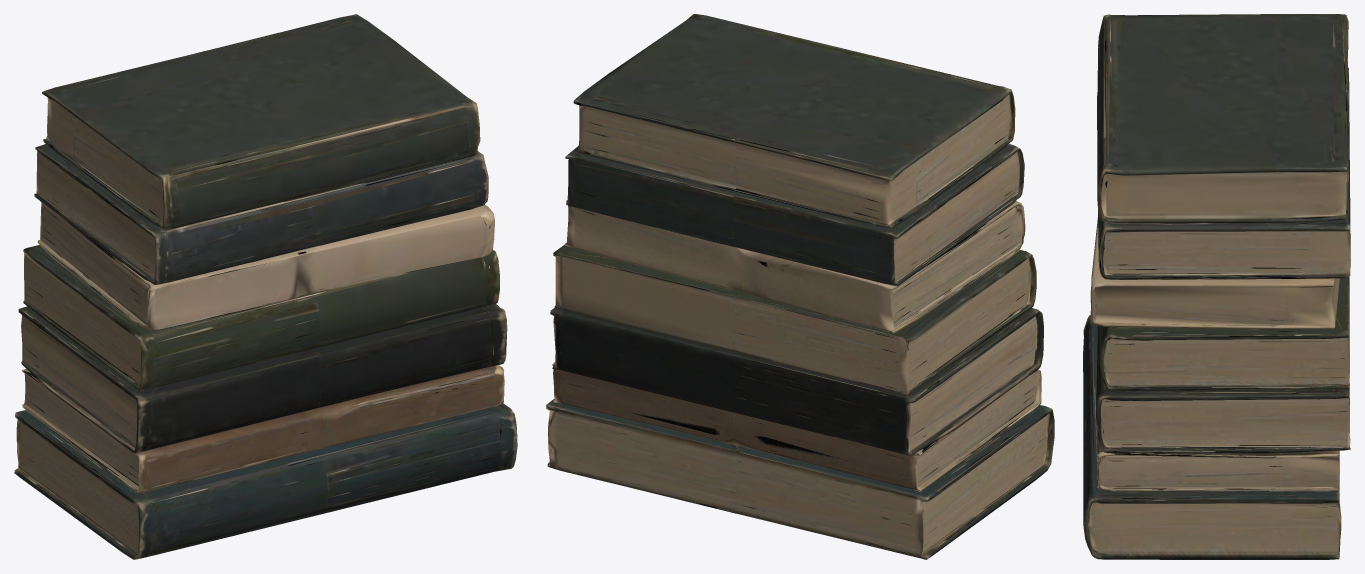
File: mobile.glb
3 views of the same model, side by side, from view 1: azimuth 30°, elevation 25°; view 2: azimuth 150°, elevation 25°; view 3: azimuth 270°, elevation 25° (orthographic).
Parts seen in each view (by area): view 1: bookstack; view 2: bookstack; view 3: bookstack.
Part boxes in pixels (<box>): bookstack: <box>14,14,517,559</box>; bookstack: <box>546,14,1054,559</box>; bookstack: <box>1083,14,1350,559</box>.
Bounding box in the file's own units: 0.2641 × 0.25 × 0.1605.
Materials: 1 (1 with a texture image).
